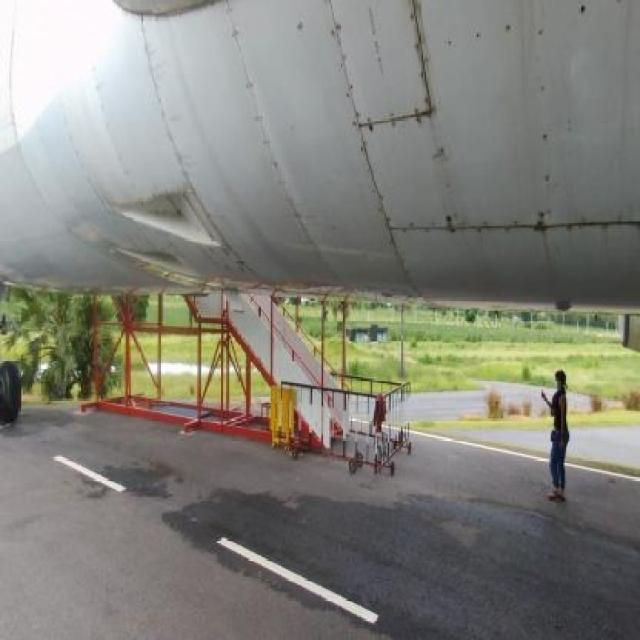Missing-Rivet: (331, 27, 392, 233), (529, 17, 563, 209), (438, 26, 570, 59)
Rust: (499, 212, 639, 299), (426, 126, 479, 228), (409, 5, 442, 114)
